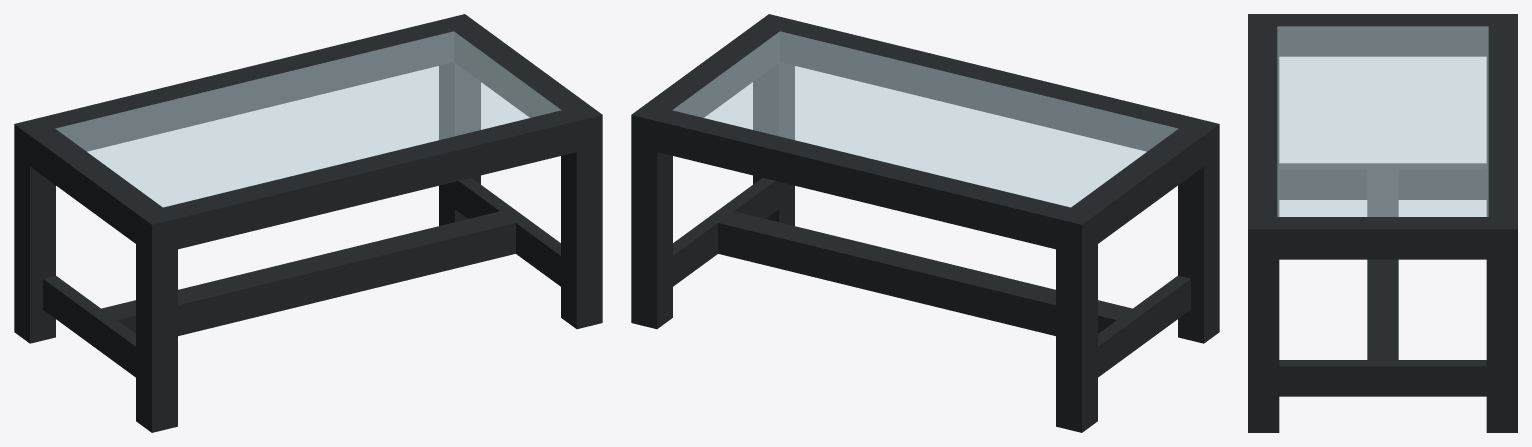
Rendered from table-dining-glass.glb.
3 views of the same model, side by side, from view 1: azimuth 30°, elevation 25°; view 2: azimuth 150°, elevation 25°; view 3: azimuth 270°, elevation 25° (orthographic). The views are drawn at different scales.
Parts seen in each view (by area): view 1: table-dining-glass; view 2: table-dining-glass; view 3: table-dining-glass.
Boxes of the visible parts, x1=… form: table-dining-glass: x1=14, y1=14, x2=602, y2=432; table-dining-glass: x1=631, y1=14, x2=1219, y2=432; table-dining-glass: x1=1248, y1=14, x2=1517, y2=432.
Size of the model in its own units: 1.7 by 0.75 by 0.9.
